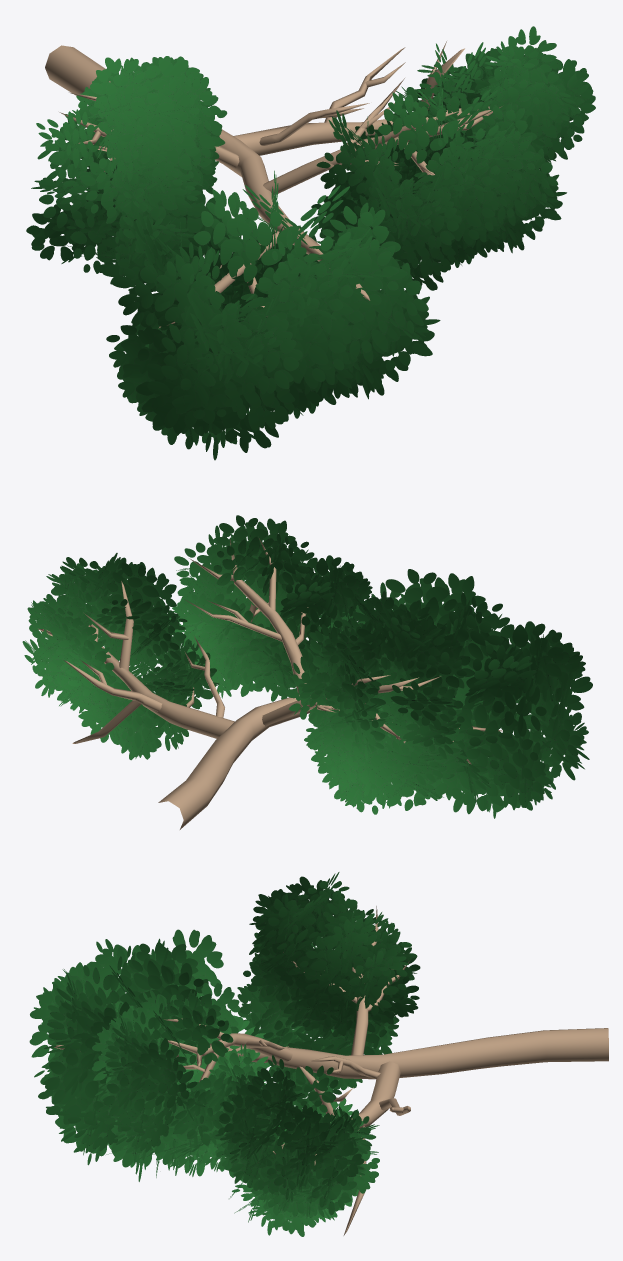
File: tree_lush_02.glb
3 renders of one model, top to bottom at view 1: azimuth 30°, elevation 25°; view 2: azimuth 150°, elevation 25°; view 3: azimuth 270°, elevation 25°, orthographic. The views are drawn at different scales.
Parts seen in each view (by area): view 1: NormalTree_3; view 2: NormalTree_3; view 3: NormalTree_3.
Boxes of the visible parts, x1,y1,x2,y2 form: NormalTree_3: (26, 26, 595, 460); NormalTree_3: (22, 515, 592, 829); NormalTree_3: (29, 872, 608, 1236).
Size of the model in its own units: 5.04 by 2.88 by 5.28.
2 materials, 1 textured.
